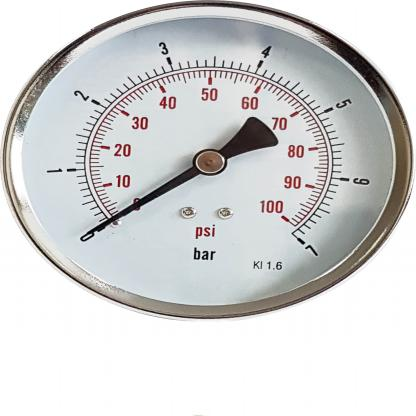needle: (85, 164, 202, 237)
